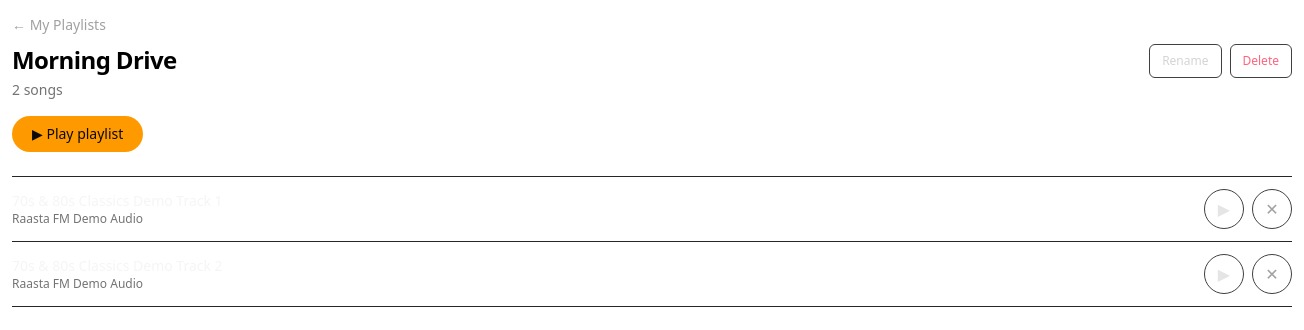
Test: PlaylistDetail › renames the playlist
Click the button with aria-label "Rename playlist" at (1185, 61), box [1149,44,1222,78]
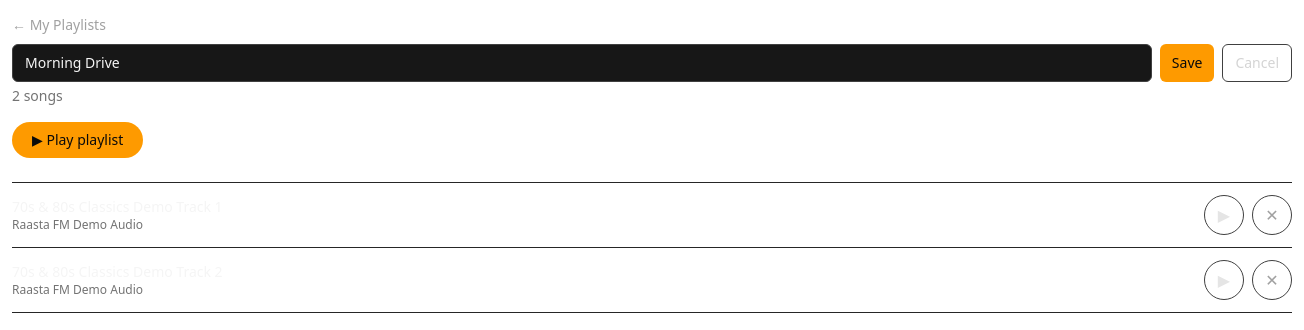
Replace the text in the field named "Rename playlist" with "Sunday Drive" at (582, 63), box [12,44,1152,82]
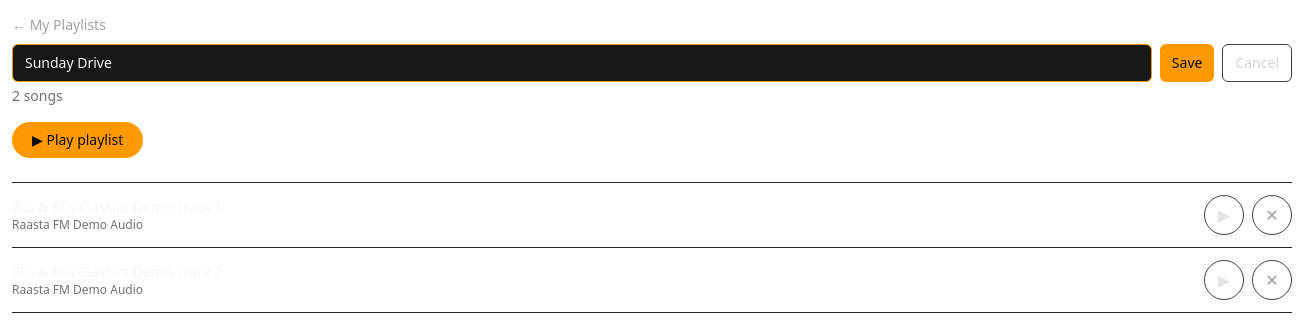
Click the button with aria-label "Save playlist name" at (1187, 63), box [1160,44,1214,82]
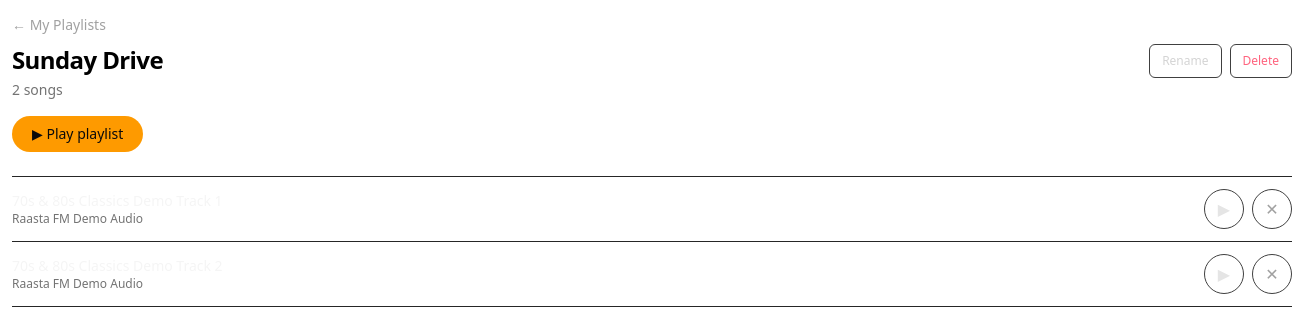
Result: the heading "Sunday Drive" is shown at [12,43,163,76]
